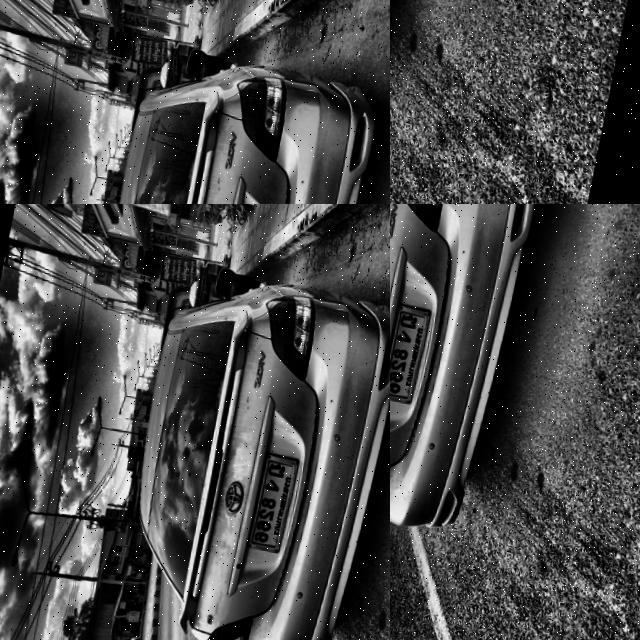license-plate: (390, 304, 431, 392), (68, 53, 100, 111), (87, 275, 111, 320), (68, 408, 83, 434)
